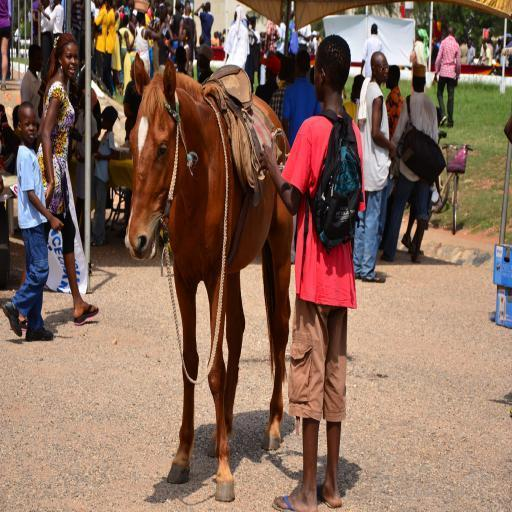horse: (124, 52, 289, 504)
